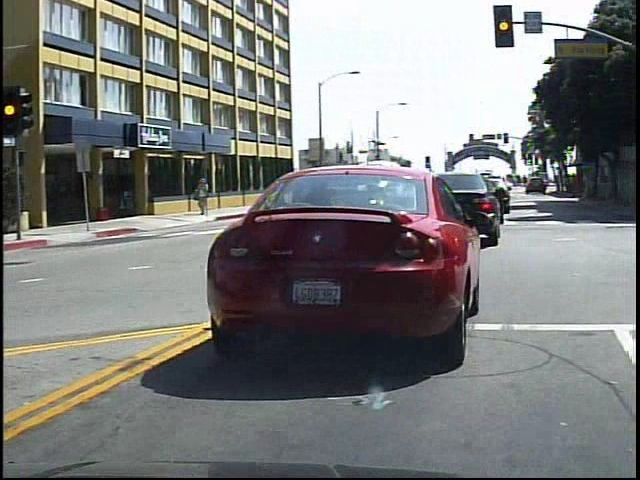person: (196, 174, 215, 218)
